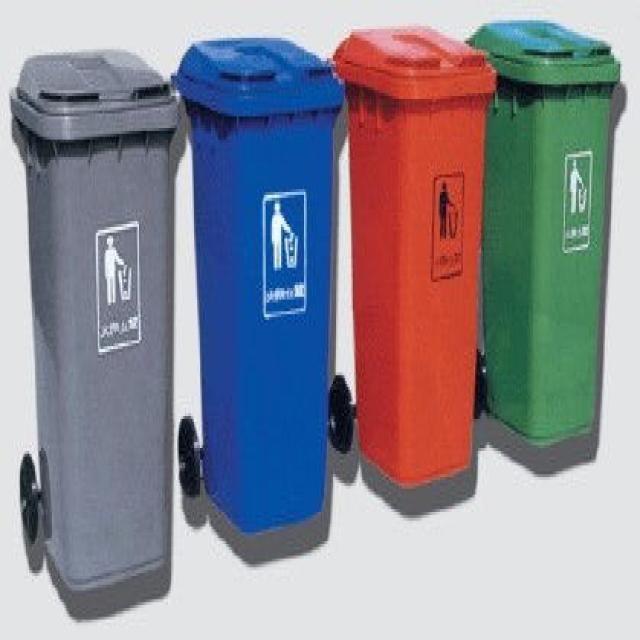garbage_bin: (9, 50, 179, 588), (170, 38, 342, 532), (331, 23, 495, 483), (466, 18, 618, 442)
